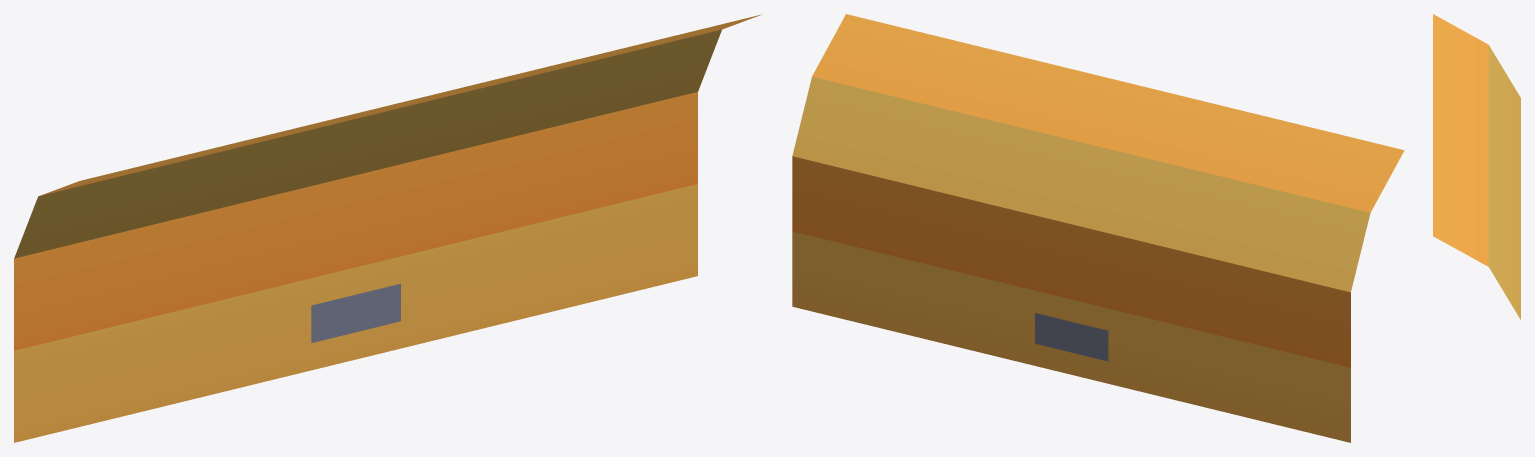
3 views of the same model, side by side, from view 1: azimuth 30°, elevation 25°; view 2: azimuth 150°, elevation 25°; view 3: azimuth 270°, elevation 25° (orthographic). The views are drawn at different scales.
Parts seen in each view (by area): view 1: door_wide_open; view 2: door_wide_open; view 3: door_wide_open.
Boxes of the visible parts, box(x1,y1,x2,y2) form: door_wide_open: box(14, 14, 762, 442); door_wide_open: box(792, 14, 1404, 442); door_wide_open: box(1433, 14, 1520, 319).
Size of the model in its own units: 1.8 by 0.7802 by 0.3.
1 material, 1 textured.
